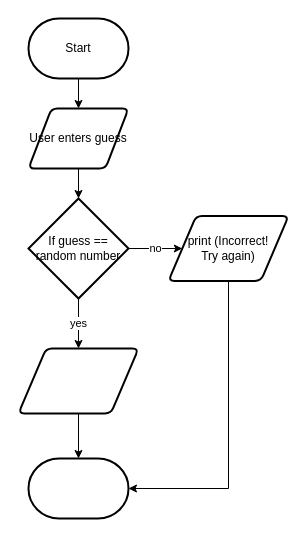
This 306x536 diagram has some shape labels left out. Here are the shapes that lost their labels. From the top down, the centre of each, then its label:
At pixel 78 380: "print (Correct!)".
At pixel 78 488: "Stop".
